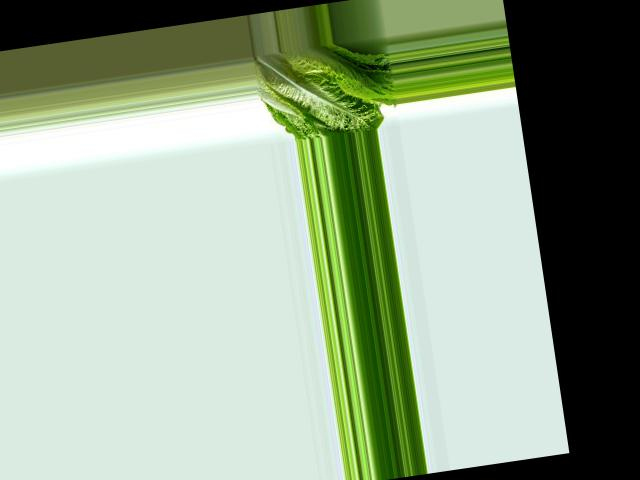lettuce: (252, 36, 401, 144)
